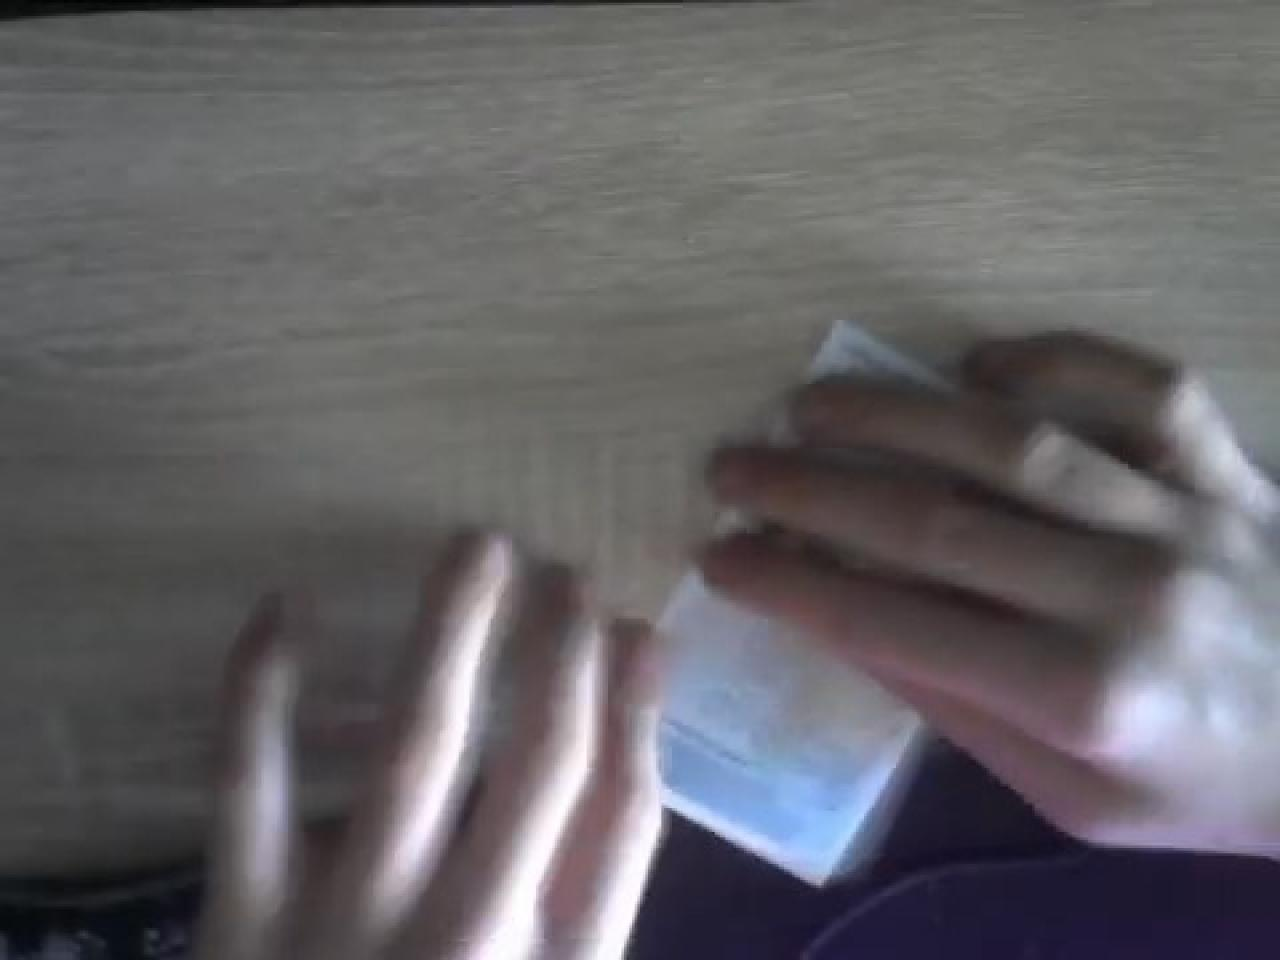20leva: (659, 571, 928, 882)
